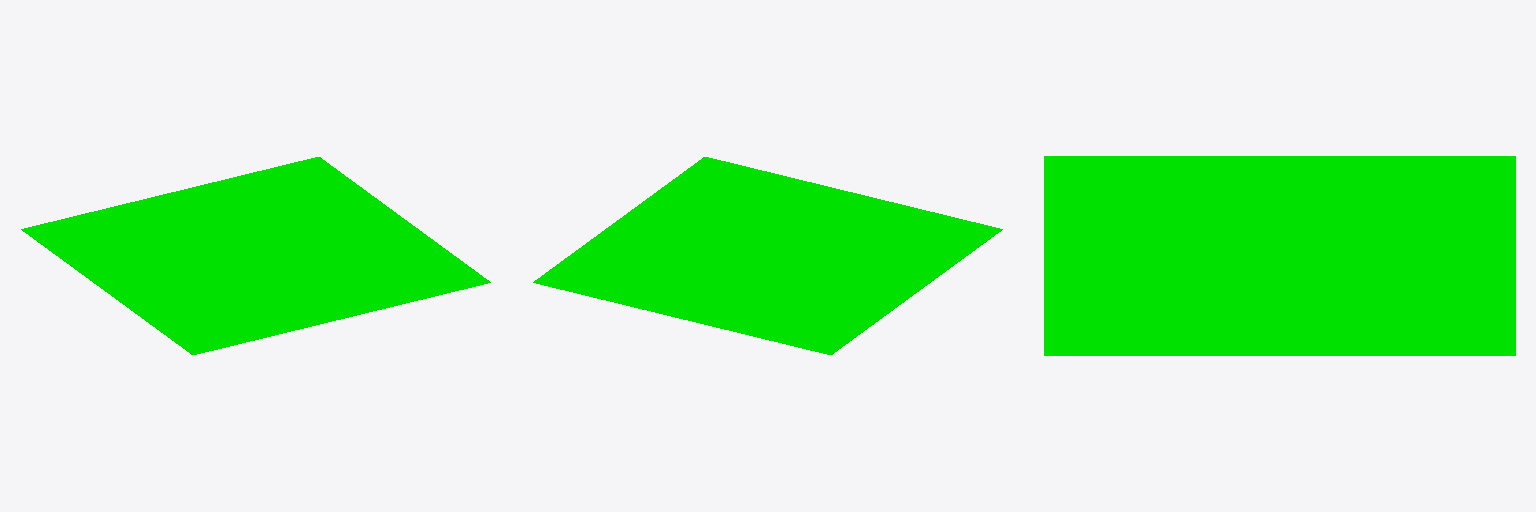
URDF robot description (goal):
<?xml version="1.0" ?>
<robot name="goal">

    <link name="base_link">
        
        <contact>
        	<lateral_friction value="1"/>
        </contact>
        
        <visual>
            <origin rpy="0 0 0" xyz="0 0 0"/>

            <geometry>
                <mesh filename="goal.obj"/>
            </geometry>
            
            <material name="green">
                <color rgba="0 1 0 1"/>
            </material>
        </visual>
        
    </link>
    
</robot>

--- What the picture shows (computed from the rendered views, not written in the file) ---
The picture shows the robot from 3 angles, left to right: view 1: azimuth 30°, elevation 25°; view 2: azimuth 150°, elevation 25°; view 3: azimuth 270°, elevation 25°; orthographic projection.
Model goal with 1 links and 0 joints (none), rooted at base_link, posed all joints at 0.
Links seen in each view (by area): view 1: base_link; view 2: base_link; view 3: base_link.
Boxes of the visible links, box(x1,y1,x2,y2) form: base_link: box(21, 157, 490, 354); base_link: box(533, 157, 1002, 354); base_link: box(1044, 156, 1515, 355).
Size in the robot's own frame: 1 by 1 by 0 metres.
1 mesh visuals loaded from 1 distinct referenced files (1 OBJ).
